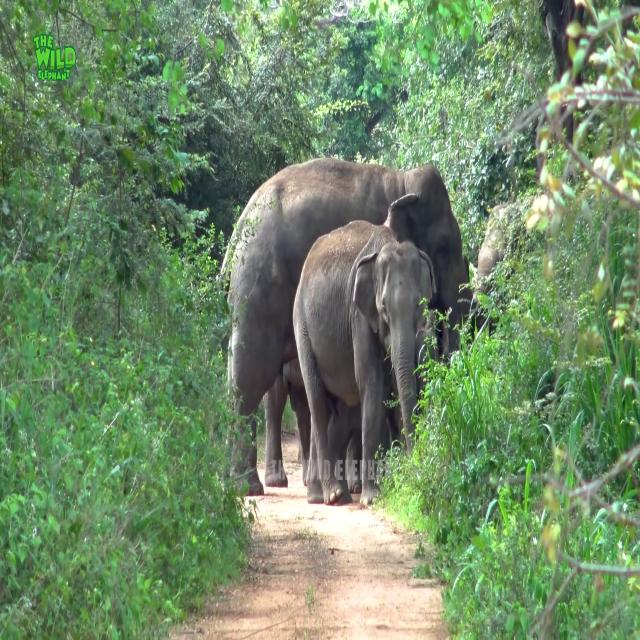Elephant: (221, 156, 470, 498), (292, 218, 437, 508)
